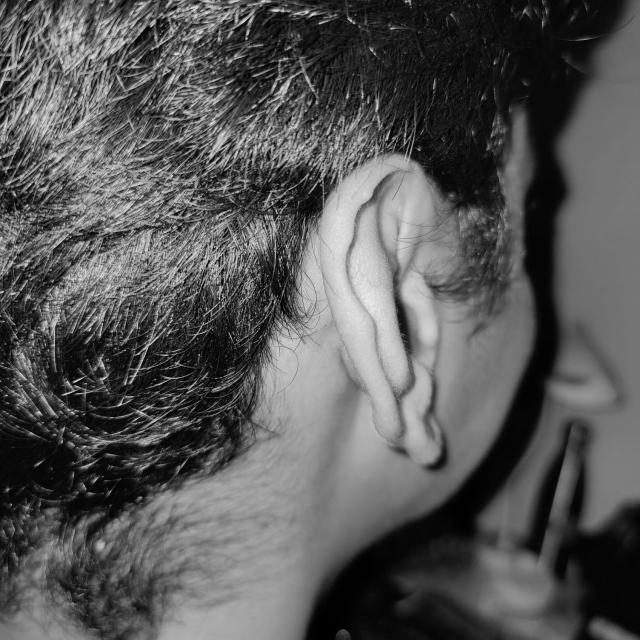ear: (320, 154, 450, 464)
